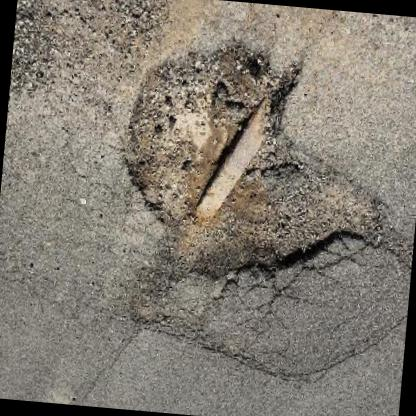pothole: (108, 29, 400, 301)
